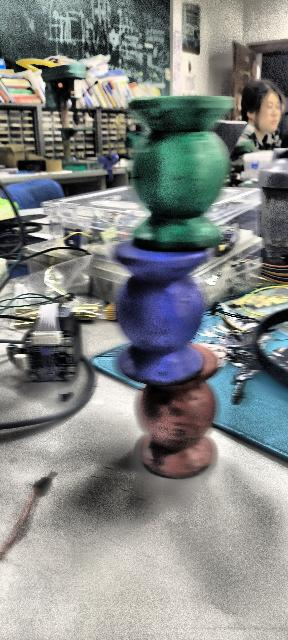blue: (112, 240, 208, 386)
green: (126, 98, 233, 252)
red: (134, 339, 220, 479)
